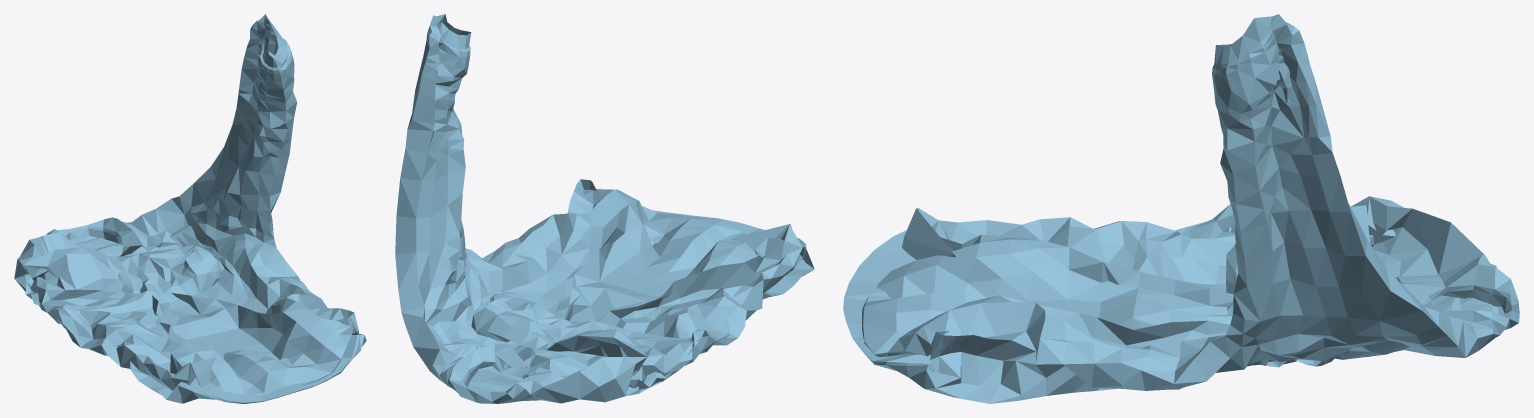
The model's file is frame_10.glb.
3 views of the same model, side by side, from view 1: azimuth 30°, elevation 25°; view 2: azimuth 150°, elevation 25°; view 3: azimuth 270°, elevation 25° (orthographic). The views are drawn at different scales.
Visible parts, largest first — view 1: frame_10.obj; view 2: frame_10.obj; view 3: frame_10.obj.
Part boxes in pixels (x1=…): frame_10.obj: x1=14, y1=14, x2=366, y2=403; frame_10.obj: x1=395, y1=14, x2=814, y2=403; frame_10.obj: x1=843, y1=14, x2=1519, y2=403.
Size of the model in its own units: 1.03 by 1.09 by 1.6.
